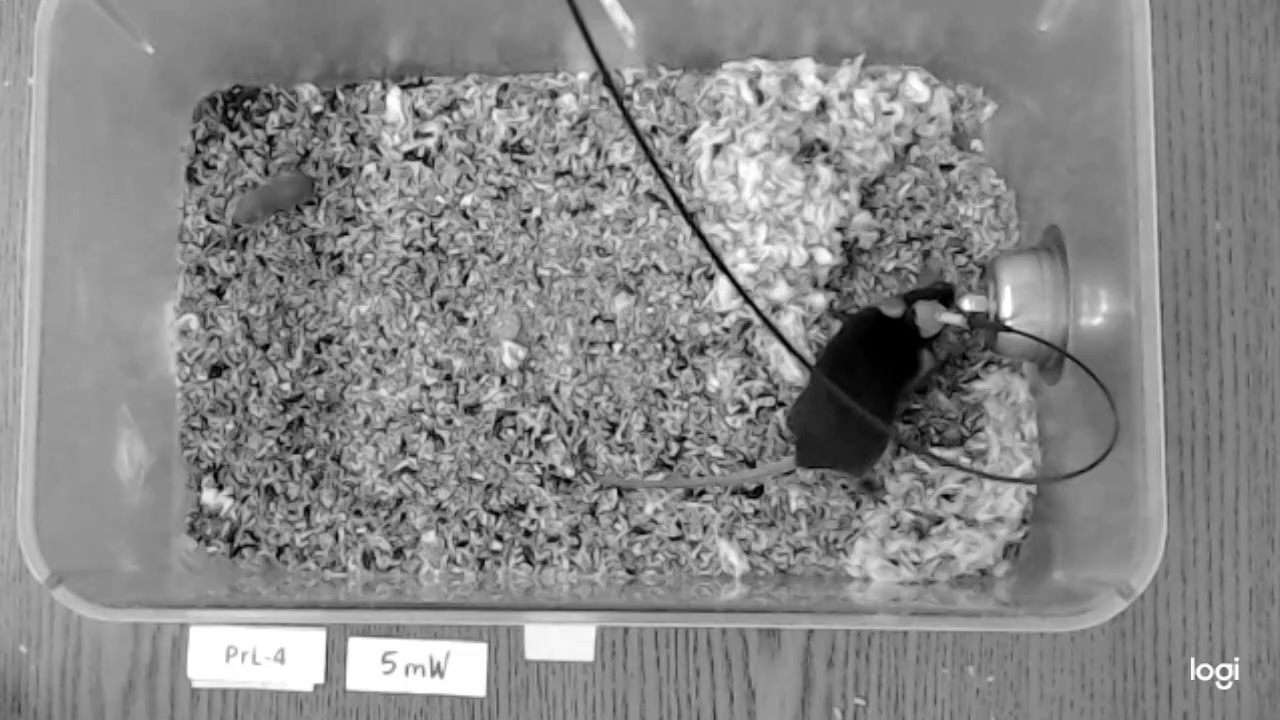child-mice: (229, 171, 315, 226)
